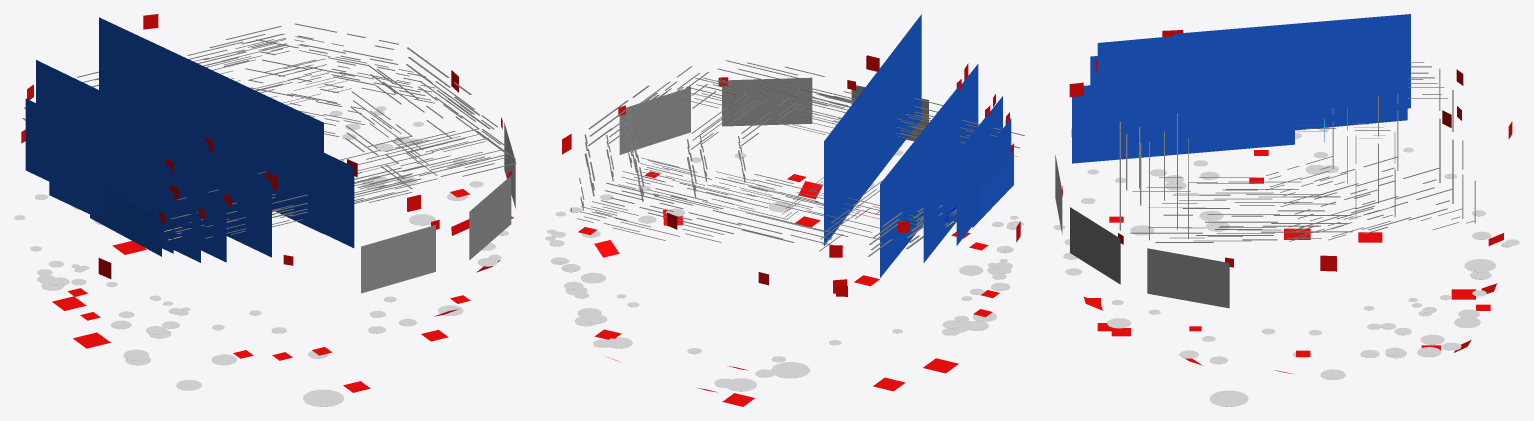
File: hotspot.fbx
3 views of the same model, side by side, from view 1: azimuth 30°, elevation 25°; view 2: azimuth 150°, elevation 25°; view 3: azimuth 270°, elevation 25° (orthographic). The views are drawn at different scales.
Parts seen in each view (by area): view 1: tvPlane_stage_stage_1320-490-2, tvPlane_life_stage_1040-395-3, tvPlane_structure_stage_730-280-5, tvPlane_industry_stage_855-310-5, tvPlane_middle3_stage_890-330-4, tvBack_life_tvBackLife, tvPlane_middle4_stage_1000-355-3, tvPlane_welcome_stage_455-160-10, tvPlane_middle2_stage_715-265-6, tvBack_industry_tvBackIndustry, line_life, line_middle3 (+9 smaller); view 2: tvPlane_stage_stage_1320-490-2, tvPlane_life_stage_1040-395-3, tvBack_industry_tvBackIndustry, tvPlane_industry_stage_855-310-5, tvBack_structure_tvBackStructure, tvPlane_structure_stage_730-280-5, line_life, line_industry, line_middle3, line_structure, line_stage, tvPlane_welcome_stage_455-160-10 (+8 smaller); view 3: tvPlane_stage_stage_1320-490-2, tvPlane_middle4_stage_1000-355-3, tvBack_structure_tvBackStructure, tvBack_industry_tvBackIndustry, line_industry, line_life, line_middle3, line_stage, line_structure, line_middle4, tvPlane_life_stage_1040-395-3, line_middle2 (+2 smaller).
Part boxes in pixels (x1,y1,x2,y2): tvPlane_stage_stage_1320-490-2: [99, 17, 323, 233]; tvPlane_life_stage_1040-395-3: [36, 60, 208, 191]; tvPlane_structure_stage_730-280-5: [49, 134, 173, 253]; tvPlane_industry_stage_855-310-5: [25, 98, 171, 190]; tvPlane_middle3_stage_890-330-4: [208, 151, 271, 257]; tvBack_life_tvBackLife: [361, 225, 435, 293]; tvPlane_middle4_stage_1000-355-3: [324, 153, 354, 247]; tvPlane_welcome_stage_455-160-10: [90, 188, 161, 256]; tvPlane_middle2_stage_715-265-6: [171, 174, 226, 262]; tvBack_industry_tvBackIndustry: [469, 176, 511, 260]; line_life: [77, 23, 490, 173]; line_middle3: [249, 57, 516, 217]; tvPlane_stage_stage_1320-490-2: [824, 14, 921, 245]; tvPlane_life_stage_1040-395-3: [880, 85, 959, 277]; tvBack_industry_tvBackIndustry: [722, 77, 812, 126]; tvPlane_industry_stage_855-310-5: [923, 112, 989, 262]; tvBack_structure_tvBackStructure: [619, 87, 690, 154]; tvPlane_structure_stage_730-280-5: [956, 118, 1011, 245]; line_life: [584, 78, 926, 251]; line_industry: [633, 81, 993, 256]; line_middle3: [628, 60, 942, 219]; line_structure: [687, 85, 1024, 248]; line_stage: [606, 91, 838, 218]; tvPlane_welcome_stage_455-160-10: [972, 150, 1013, 227]; tvPlane_stage_stage_1320-490-2: [1097, 15, 1407, 130]; tvPlane_middle4_stage_1000-355-3: [1072, 68, 1294, 163]; tvBack_structure_tvBackStructure: [1147, 248, 1229, 308]; tvBack_industry_tvBackIndustry: [1070, 207, 1120, 284]; line_industry: [1164, 62, 1440, 213]; line_life: [1177, 79, 1453, 235]; line_middle3: [1119, 96, 1378, 233]; line_stage: [1188, 123, 1395, 241]; line_structure: [1139, 93, 1398, 200]; line_middle4: [1149, 125, 1356, 242]; tvPlane_life_stage_1040-395-3: [1174, 14, 1410, 108]; line_middle2: [1140, 107, 1347, 207].
Bounding box in the file's own units: 194 × 148 × 193.
Materials: 5 (1 with a texture image).
